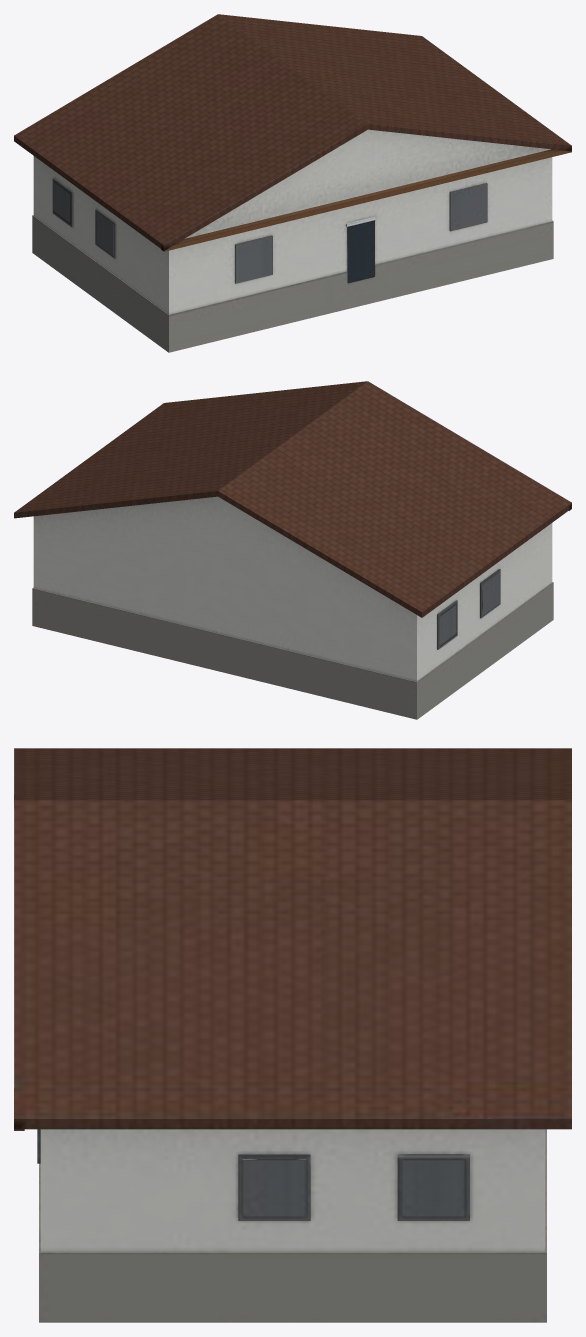
File: swietlica.glb
3 renders of one model, top to bottom at view 1: azimuth 30°, elevation 25°; view 2: azimuth 150°, elevation 25°; view 3: azimuth 270°, elevation 25°, orthographic. The views are drawn at different scales.
Visible parts, largest first — view 1: swietlica; view 2: swietlica; view 3: swietlica.
Part boxes in pixels (<box>): swietlica: <box>14,14,571,352</box>; swietlica: <box>14,381,571,719</box>; swietlica: <box>14,748,571,1322</box>.
Size of the model in its own units: 16.5 by 7.22 by 10.5.
1 material, 1 textured.
